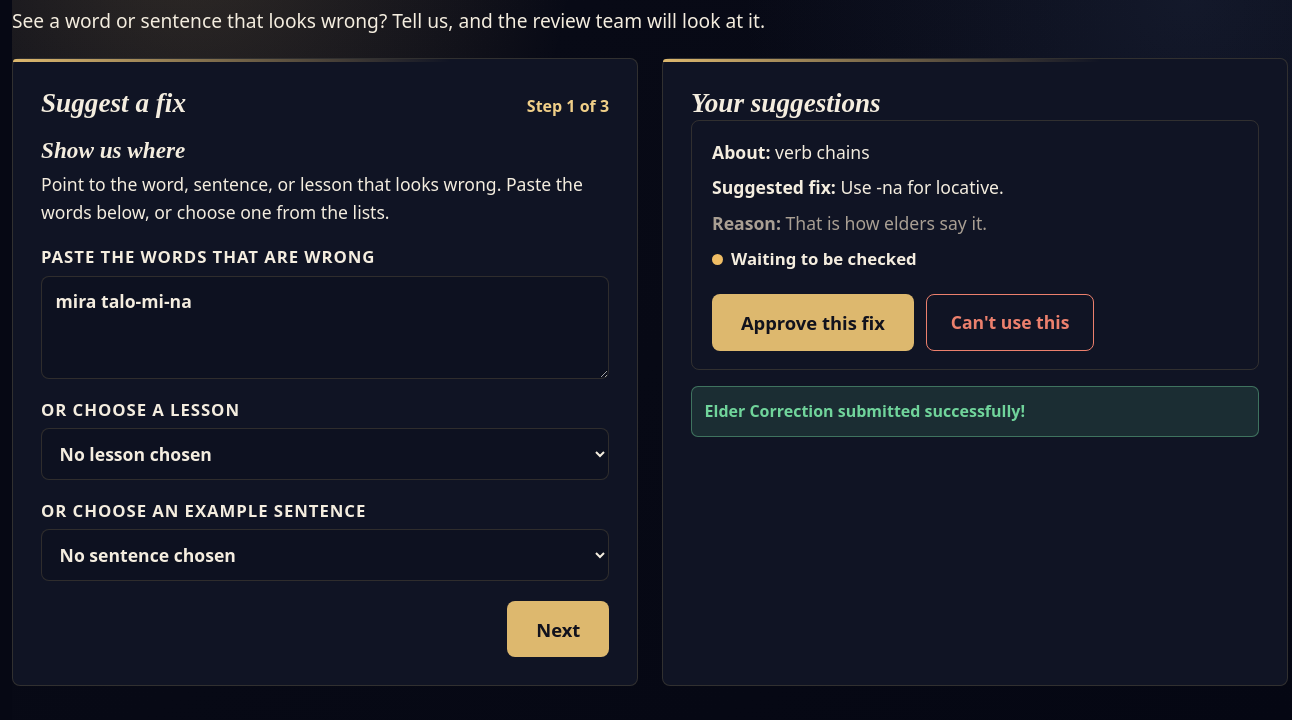
Test: ElderPage review and apply busy guards › keeps success feedback visible on the thank-you screen after send
Click the button "Next" at (558, 630), box [507,602,609,658]
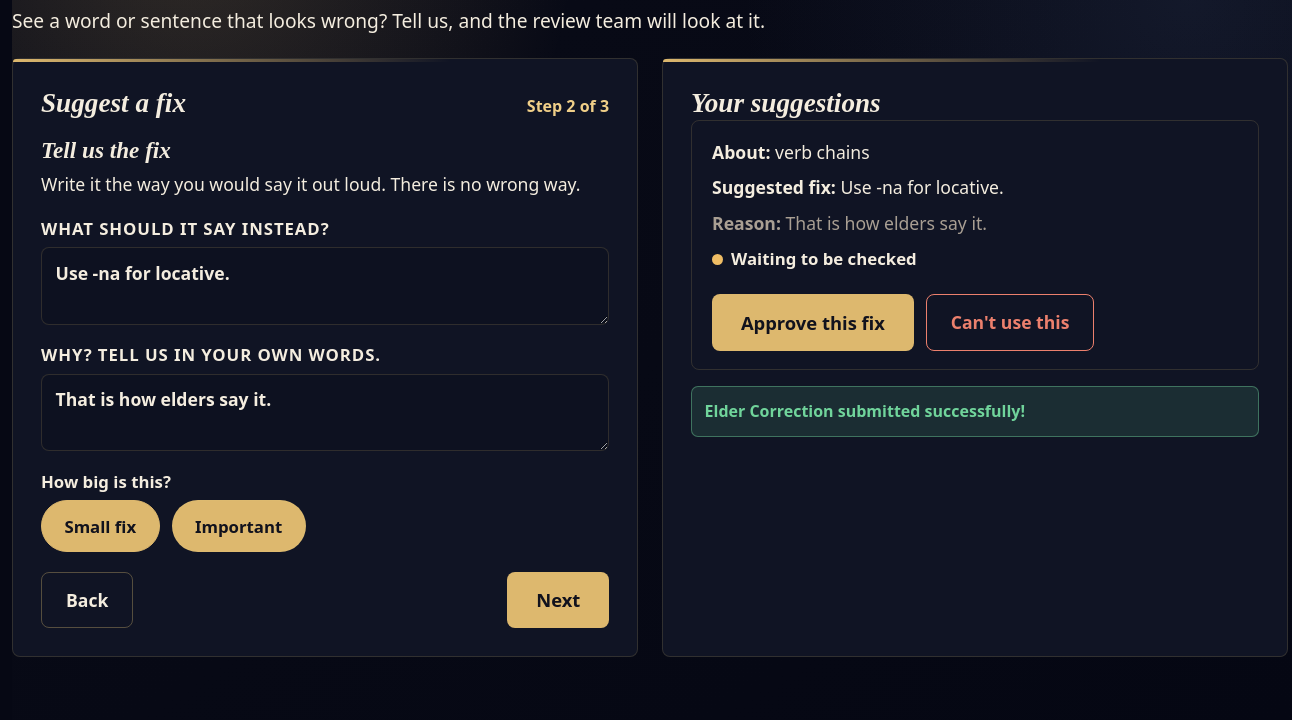
Click the button "Next" at (558, 600), box [507,572,609,628]
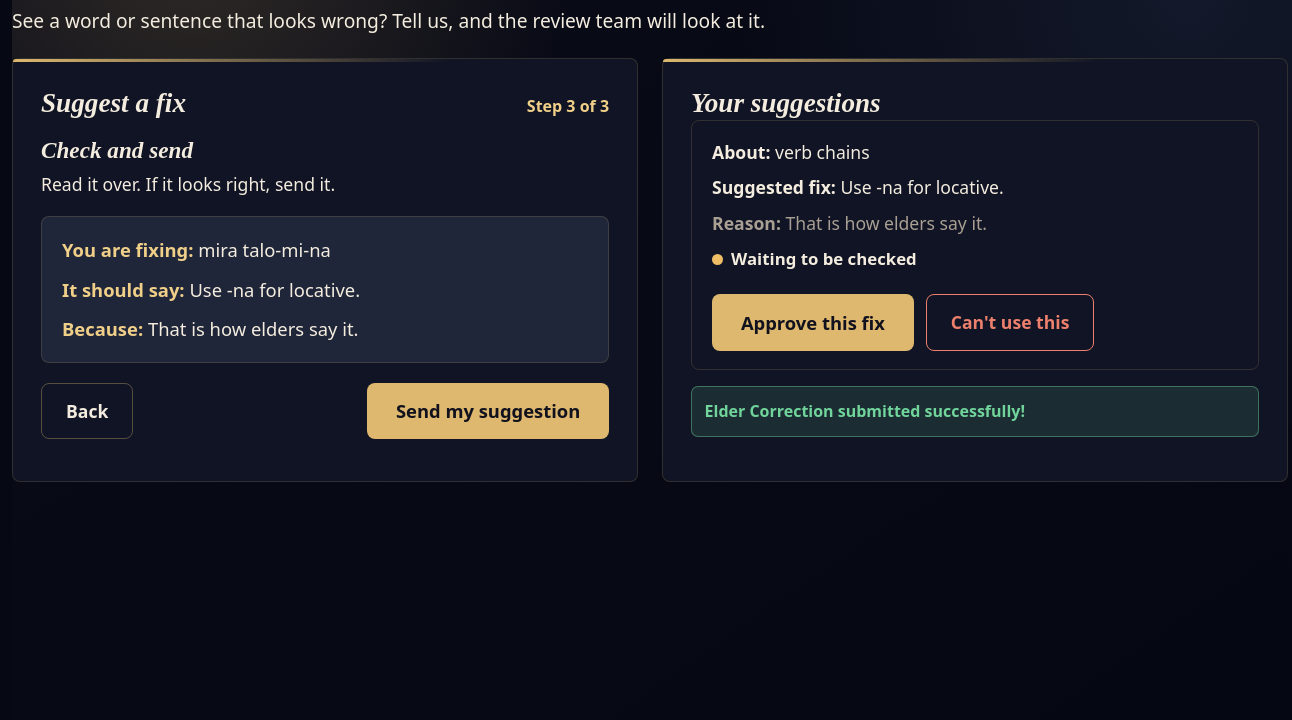
Click the button "Send my suggestion" at (488, 411), box [367,383,609,439]
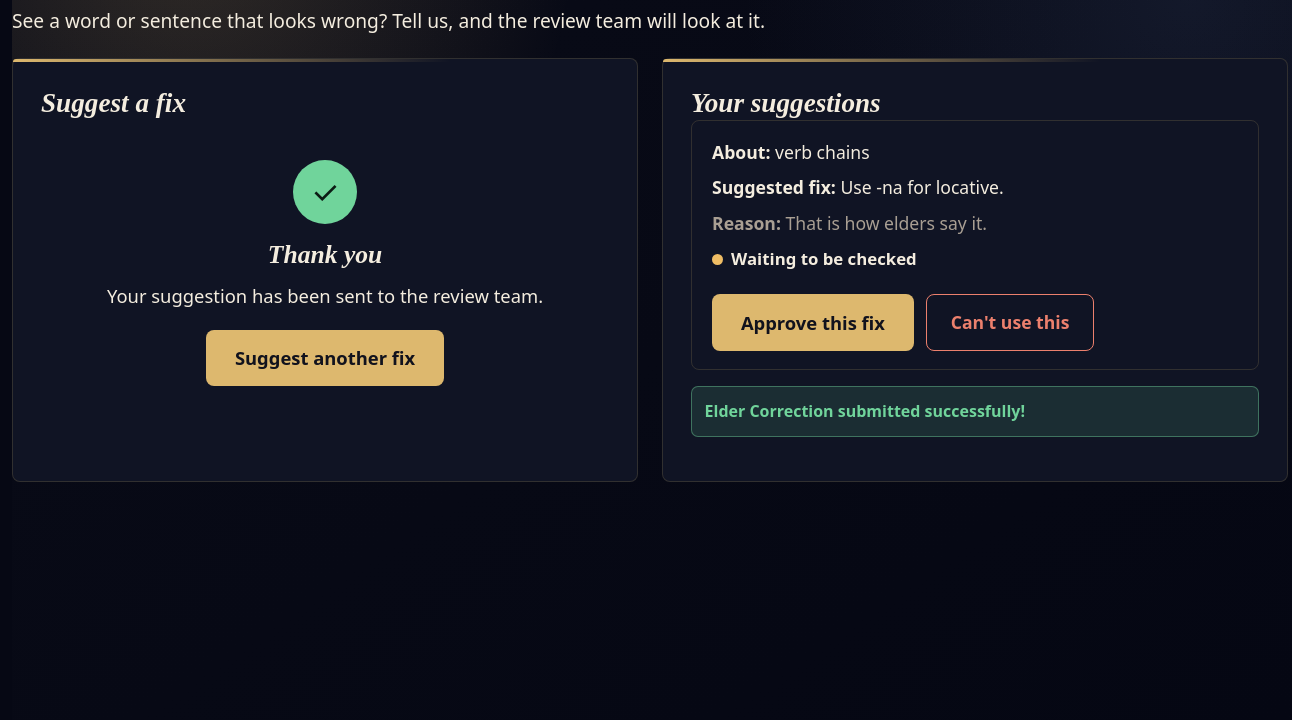
Expected: the text "Elder Correction submitted successfully!" is shown, [691,386,1259,437]
Expected: the heading "Thank you" is shown, [268,240,382,268]
